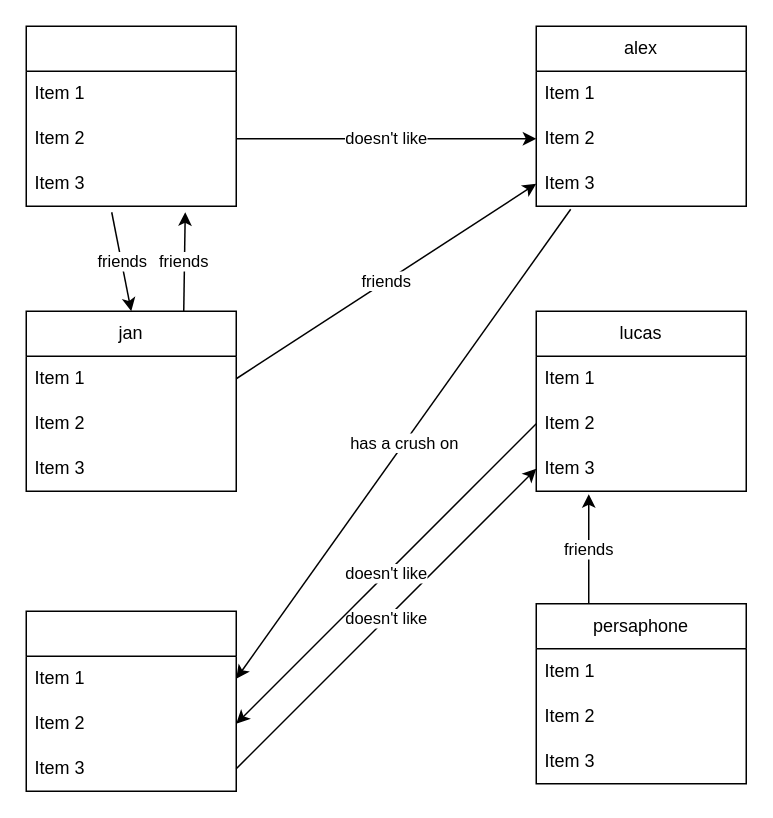
This 773x818 diagram has some shape labels left out. Each missing label, with the box of its shape:
eryn: (25, 610, 236, 791)
hazel: (25, 25, 236, 206)
